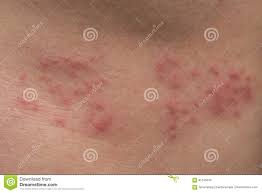herpes: (32, 53, 249, 136)
